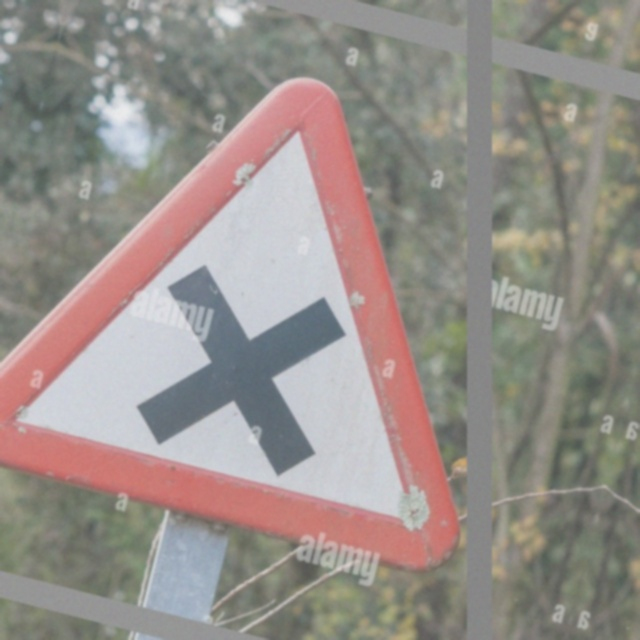Cross_Road: (1, 28, 551, 573)
